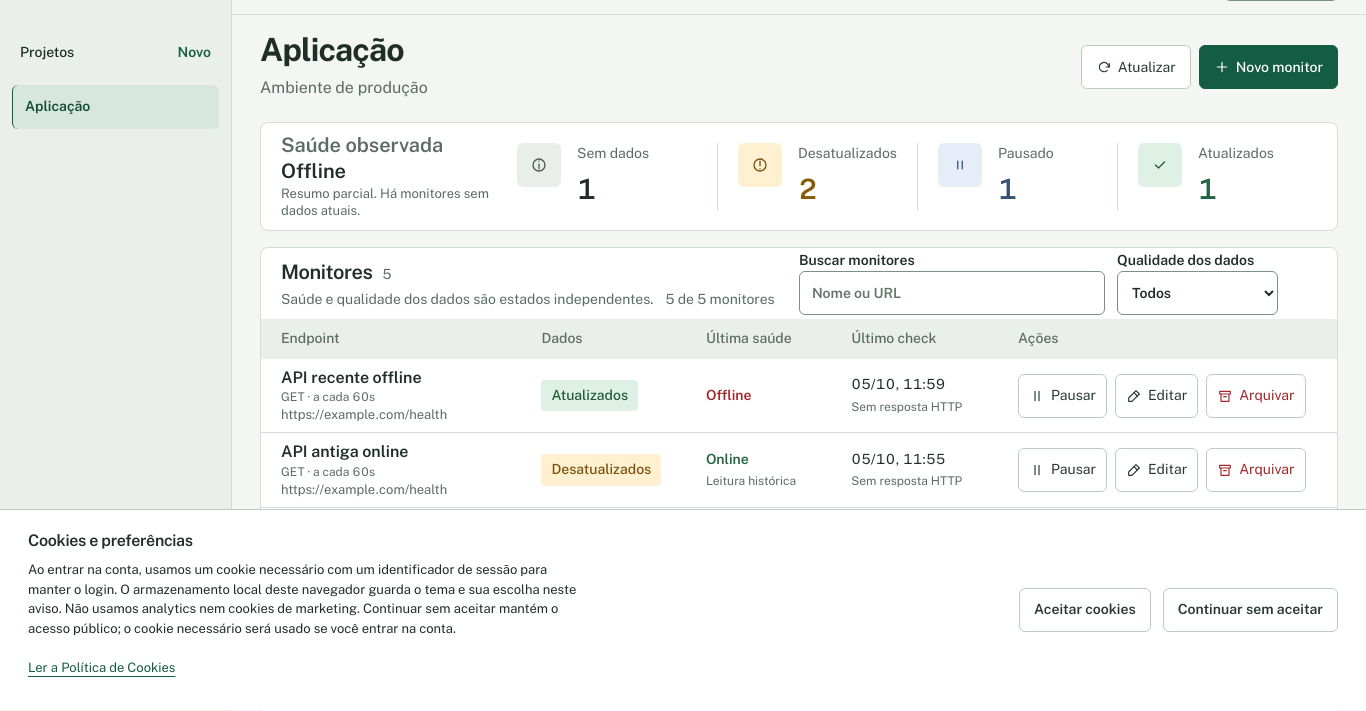
filtra as cinco qualidades atuais sem usar última saúde nem freshness DTO envelhecido
The width and height of the screenshot is (1366, 711).
Expected: the text "5 de 5 monitores" is shown, [666,290,775,309]
Select "Atualizados" in the dropdown labelled "Qualidade dos dados" at (1198, 293), box [1117,271,1278,315]
(page scrolled)
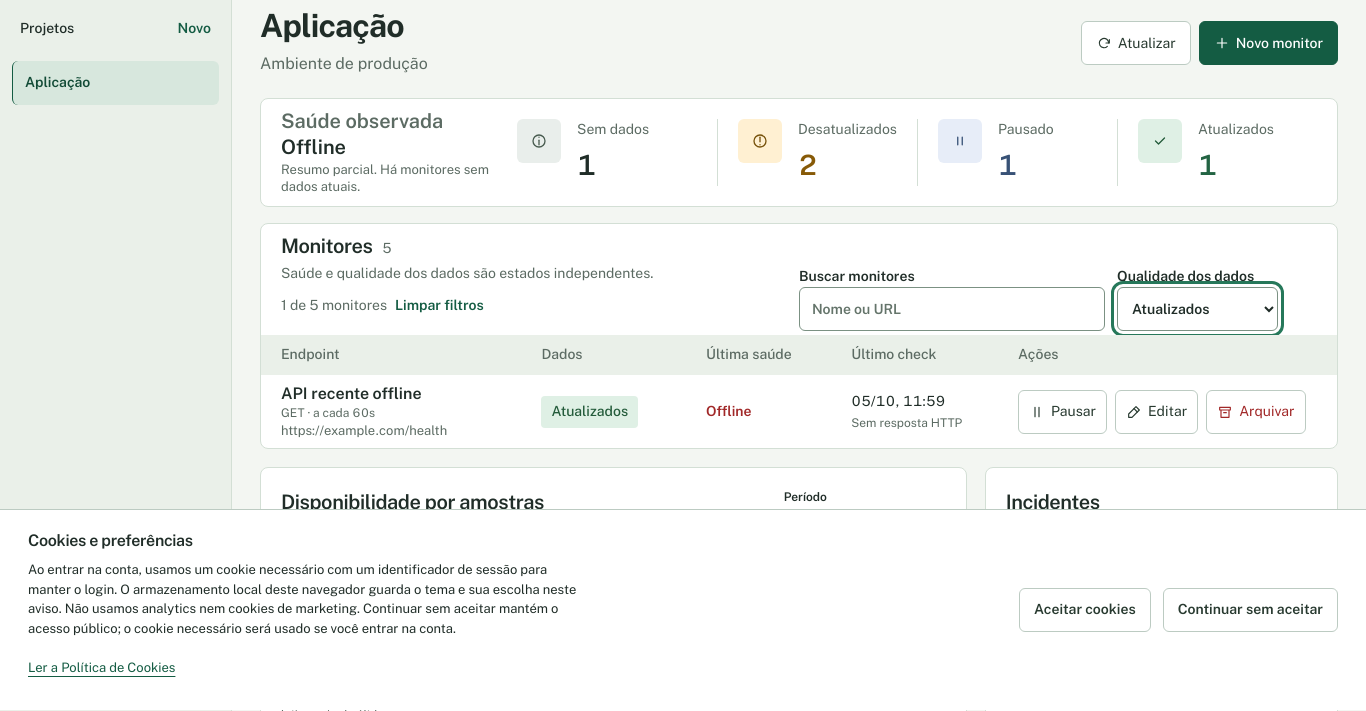
Now the number of rows is 2, box [261,336,1337,375]; [261,375,1337,448]
Now the text "1 de 5 monitores" is shown, box [281,296,387,315]
Select "Desatualizados" in the dropdown labelled "Qualidade dos dados" at (1198, 310), box [1117,288,1278,332]
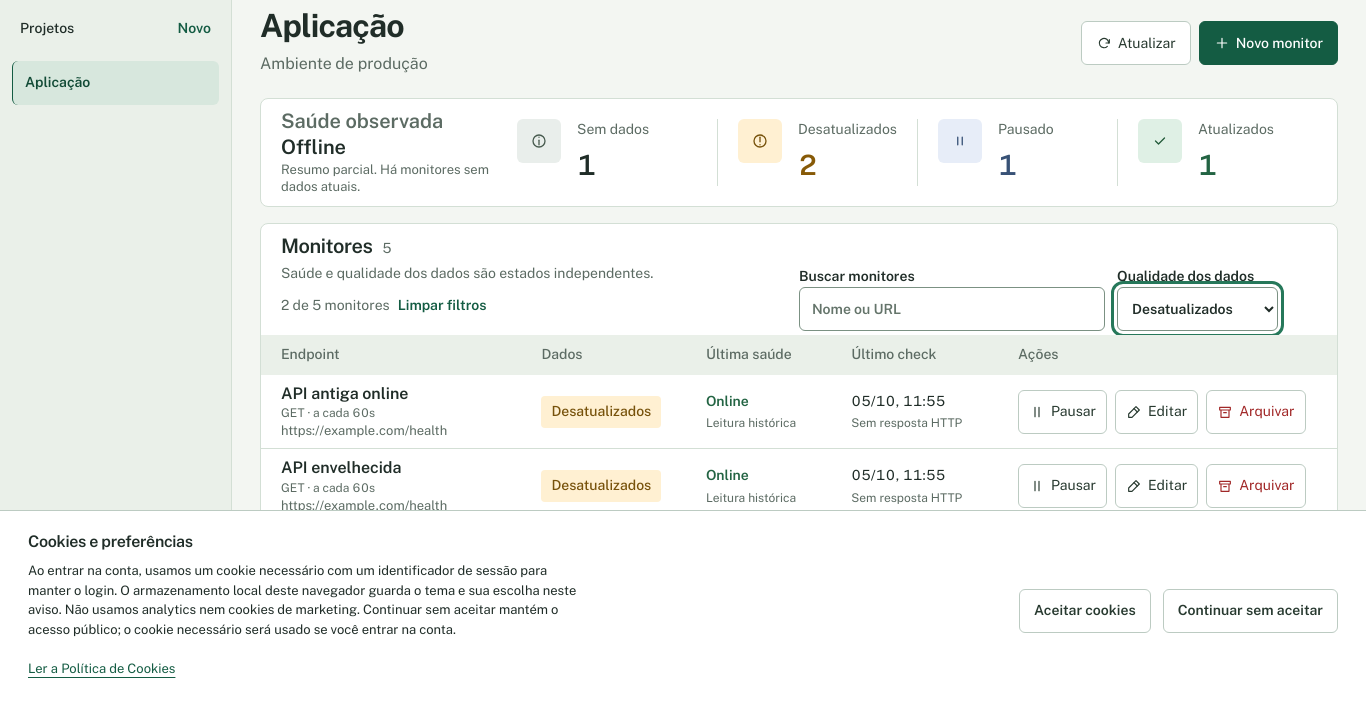
Now the number of rows is 3, box [261,336,1337,375]; [261,375,1337,449]; [261,449,1337,523]
Select "Sem dados" in the dropdown labelled "Qualidade dos dados" at (1198, 310), box [1117,288,1278,332]
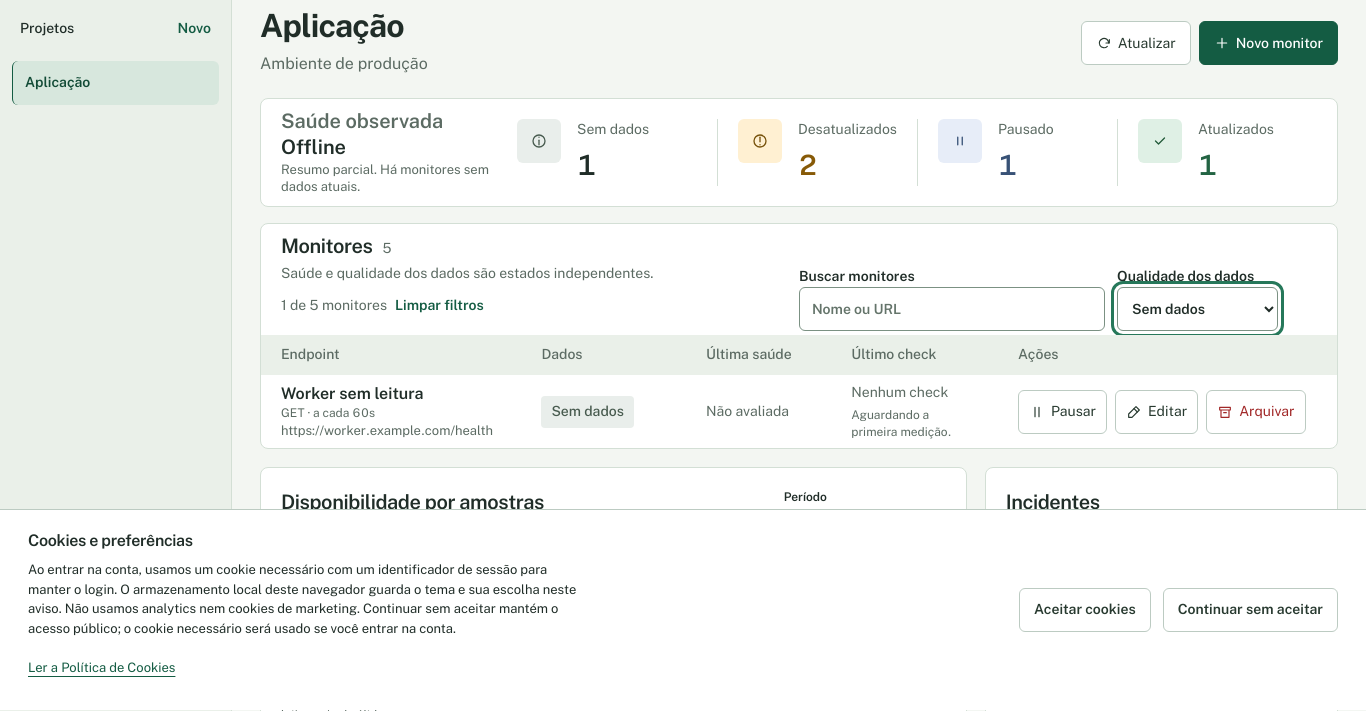
Now the number of rows is 2, box [261,336,1337,375]; [261,375,1337,448]
Now the button with aria-label "Ver histórico de Worker sem leitura" is shown, box [281,383,501,440]
Now the text "1 de 5 monitores" is shown, box [281,296,387,315]
Select "Pausados" in the dropdown labelled "Qualidade dos dados" at (1198, 310), box [1117,288,1278,332]
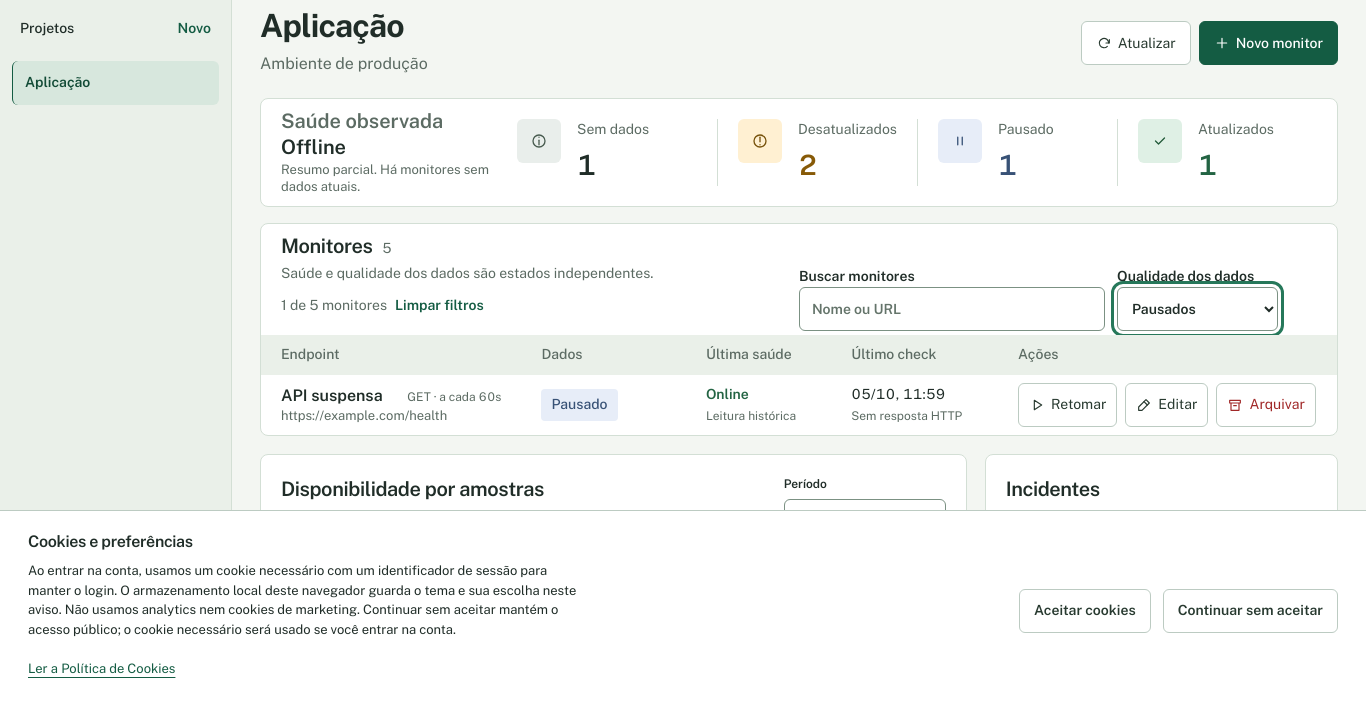
Now the number of rows is 2, box [261,336,1337,375]; [261,375,1337,435]
Now the text "1 de 5 monitores" is shown, box [281,296,387,315]
Select "Todos" in the dropdown labelled "Qualidade dos dados" at (1198, 310), box [1117,288,1278,332]
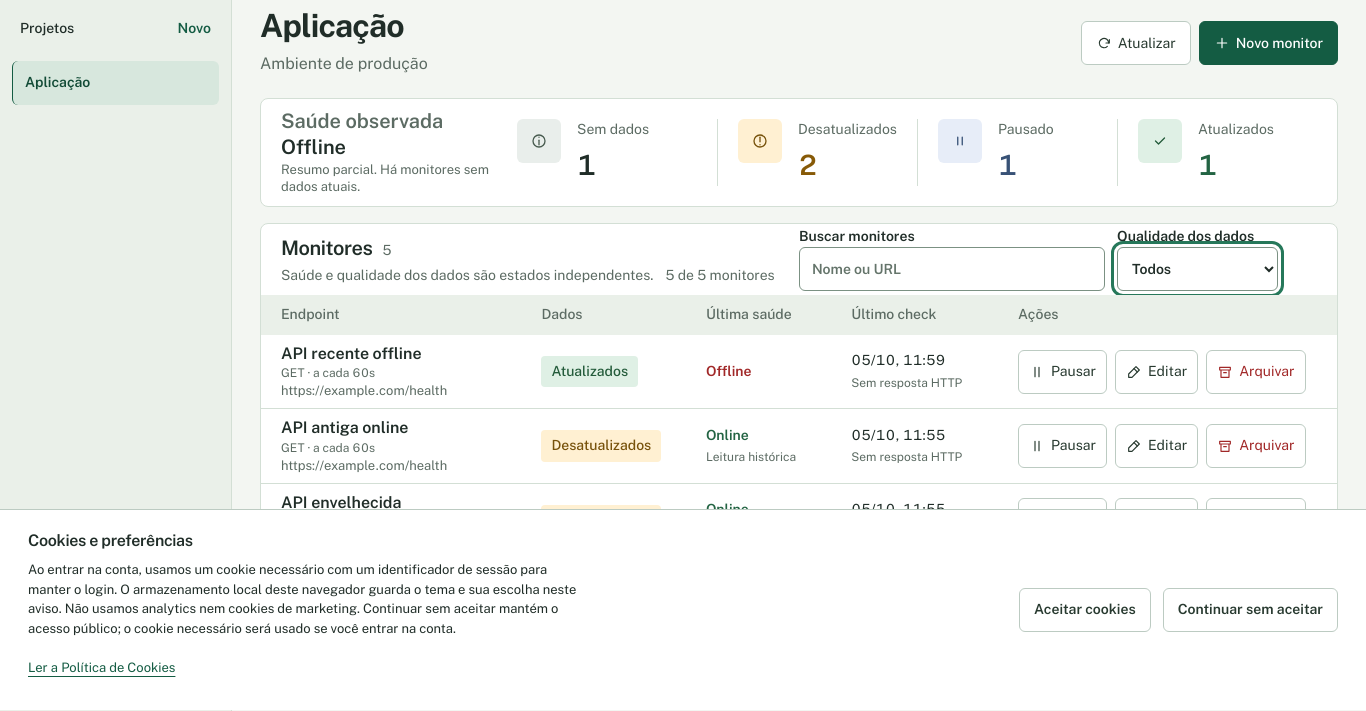
Now the number of rows is 6, box [261,295,1337,335]; [261,335,1337,409]; [261,409,1337,483]; [261,483,1337,558]; [261,558,1337,632]; [261,632,1337,692]
Now the button with aria-label "Ver histórico de Worker sem leitura" is shown, box [281,566,501,624]
Now the text "5 de 5 monitores" is shown, box [666,266,775,285]
